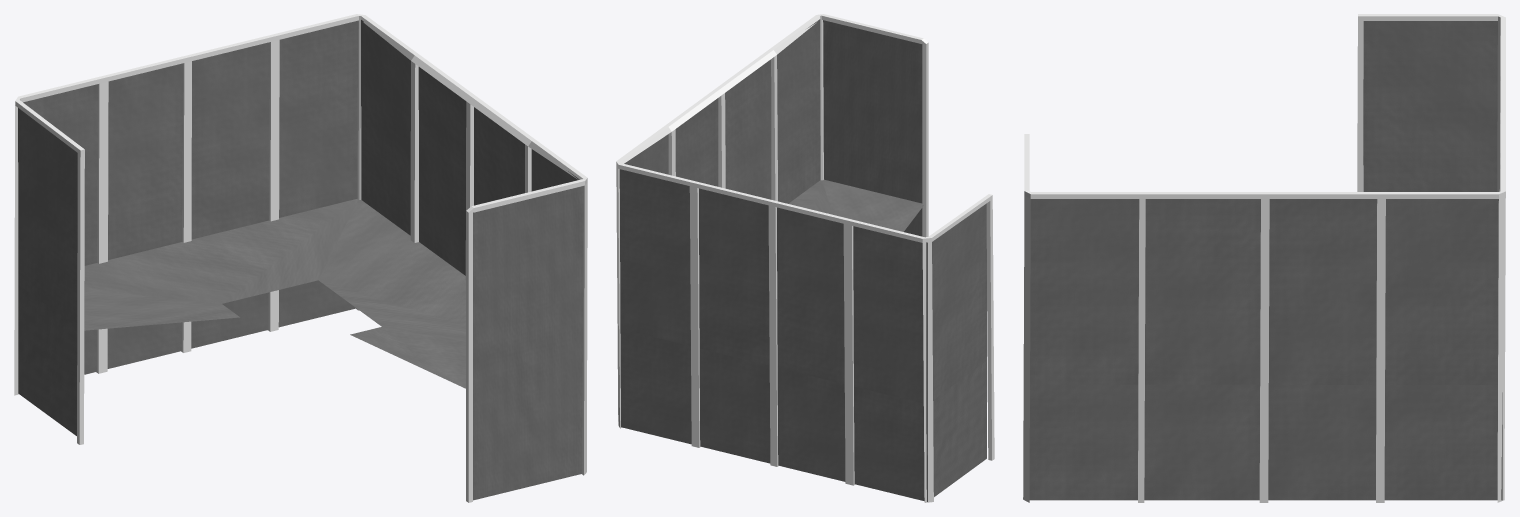
File: Cubical.gltf
3 renders of one model, left to right at view 1: azimuth 30°, elevation 25°; view 2: azimuth 150°, elevation 25°; view 3: azimuth 270°, elevation 25°, orthographic. The views are drawn at different scales.
Parts seen in each view (by area): view 1: Plane, Cube; view 2: Plane, Cube; view 3: Plane, Cube.
Boxes of the visible parts, <box> form: Plane: <box>18,20,583,500</box>; Cube: <box>14,14,587,502</box>; Plane: <box>618,19,986,501</box>; Cube: <box>616,14,994,502</box>; Plane: <box>1029,21,1502,500</box>; Cube: <box>1023,14,1505,502</box>.
Bounding box in the file's own units: 3.7 × 2.95 × 4.16.
Materials: 2 (1 with a texture image).
